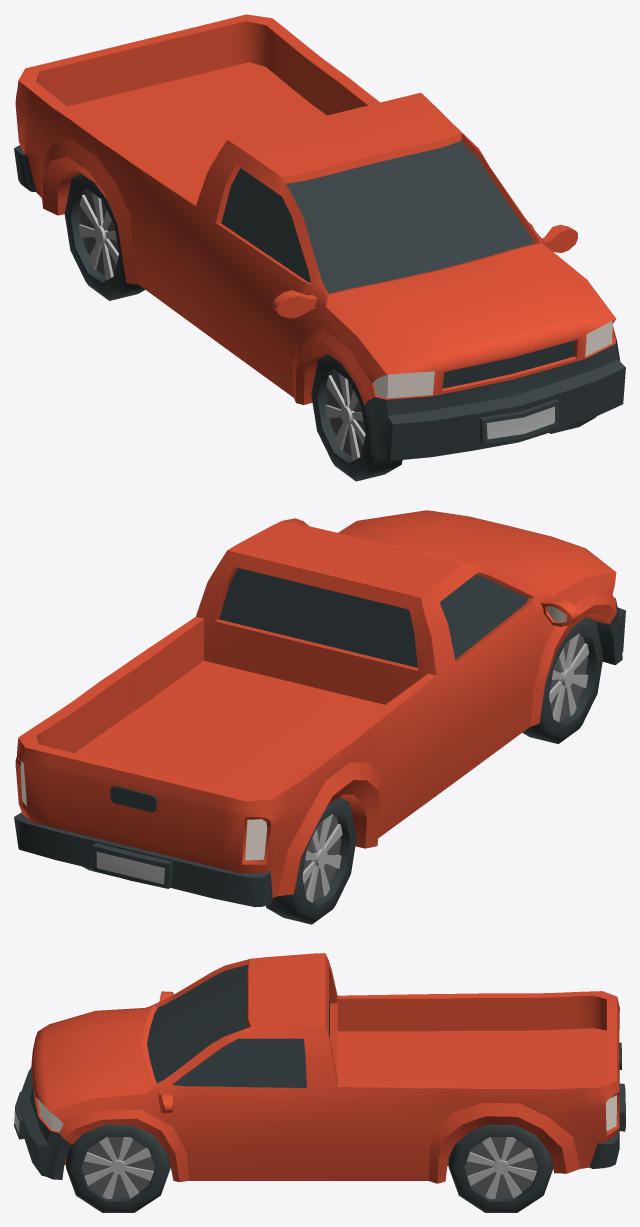
File: Car_03.fbx
The picture shows the model from 3 angles, top to bottom: view 1: azimuth 30°, elevation 25°; view 2: azimuth 150°, elevation 25°; view 3: azimuth 270°, elevation 25°; orthographic projection. The views are drawn at different scales.
Visible parts, largest first — view 1: Car_03, Car_03_Front_Right, Car_03_Back_Right; view 2: Car_03, Car_03_Back_Right, Car_03_Front_Right; view 3: Car_03, Car_03_Front_Left, Car_03_Back_Left.
Boxes of the visible parts, x1,y1,x2,y2 form: Car_03: (14,14,625,460); Car_03_Front_Right: (311,354,402,481); Car_03_Back_Right: (64,173,145,300); Car_03: (14,510,625,907); Car_03_Back_Right: (266,797,356,924); Car_03_Front_Right: (522,616,603,743); Car_03: (14,953,625,1183); Car_03_Front_Left: (66,1124,170,1212); Car_03_Back_Left: (448,1124,553,1212).
Bounding box in the file's own units: 0.2057 × 0.1519 × 0.4661.
